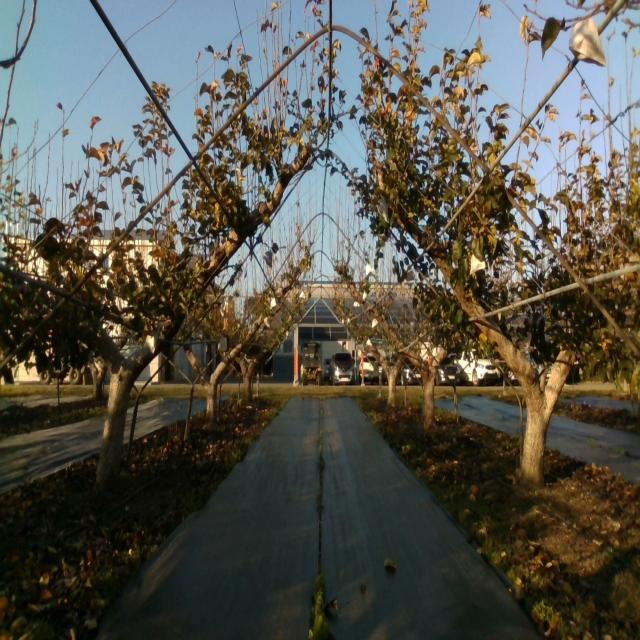pearbags: (568, 16, 606, 69), (469, 254, 486, 277), (144, 329, 159, 355), (376, 197, 390, 223)
